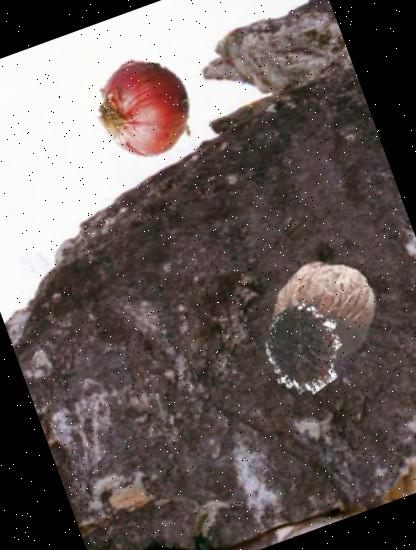Onion: (68, 37, 210, 179)
Rambutan: (249, 292, 360, 404)
Walnut: (258, 244, 394, 379)
